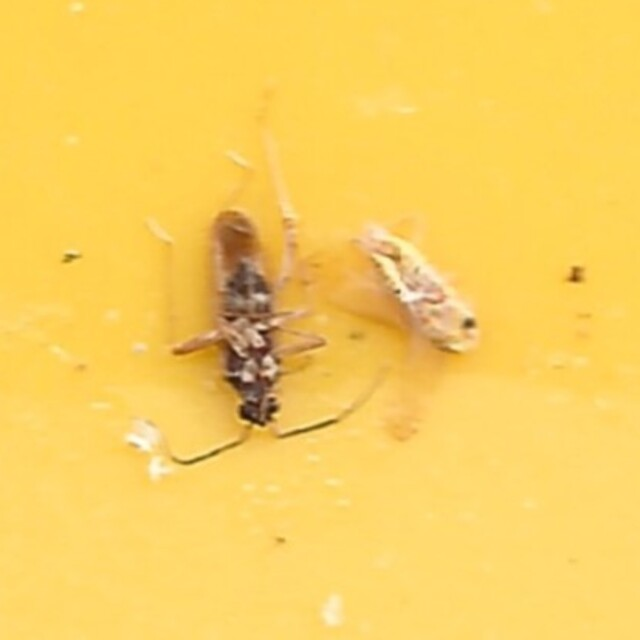Hemiptera: (341, 227, 485, 369)
Plecoptera: (155, 162, 372, 478)
